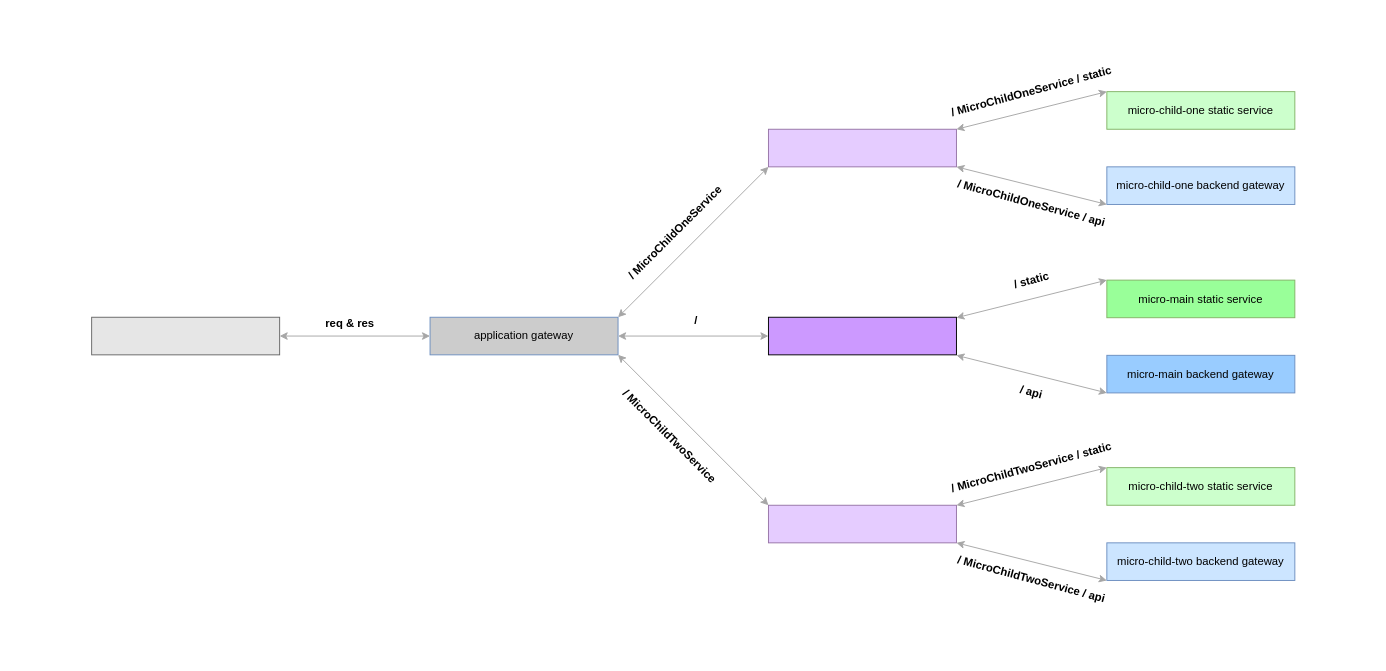
Image size: 1386x671. Some labels were removed from this diagram. Each missing label, with the centre of its shape:
micro-child-one gateway: (862,147)
micro-child-two gateway: (862,523)
micro-main gateway: (862,335)
users: (185,335)
